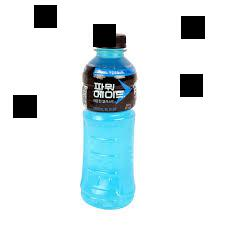powerade_mountainblast: (78, 25, 141, 213)
